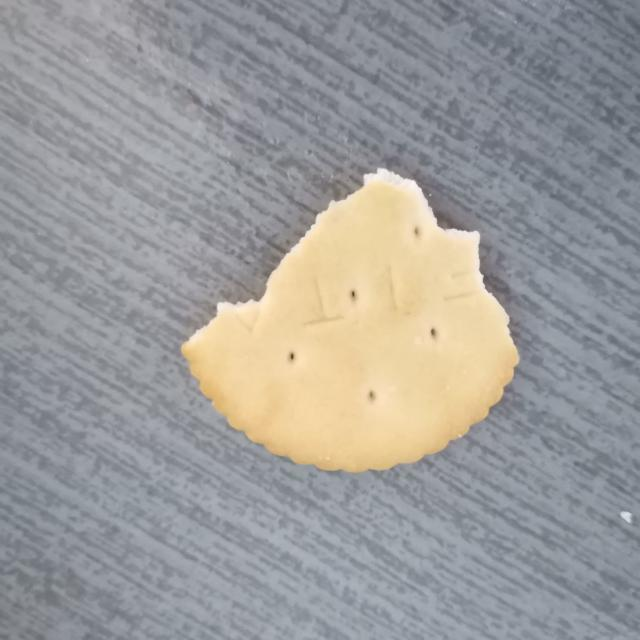Broken: (180, 166, 520, 474)
